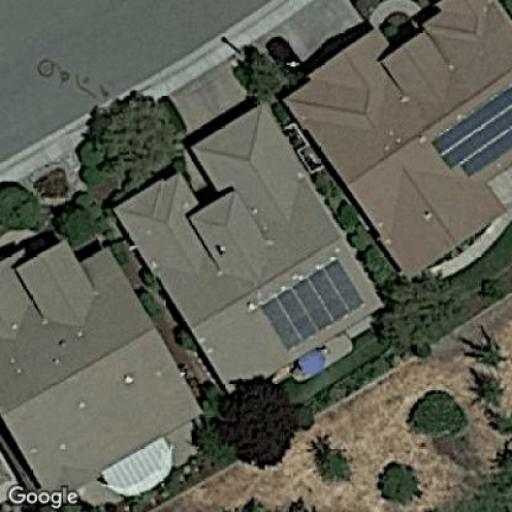solar-panel: (256, 256, 368, 352), (428, 86, 511, 179)
